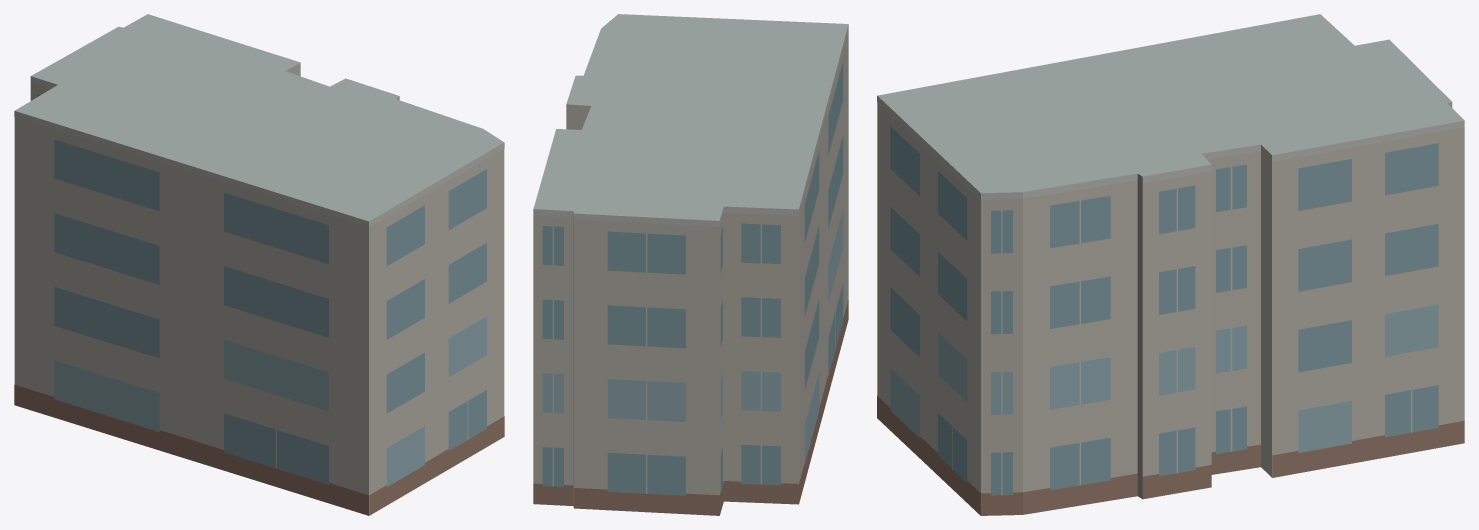
The model's file is survey-upis-32614651.glb.
3 renders of one model, left to right at view 1: azimuth 30°, elevation 25°; view 2: azimuth 150°, elevation 25°; view 3: azimuth 270°, elevation 25°, orthographic. The views are drawn at different scales.
Parts seen in each view (by area): view 1: survey-upis-32614651.tmp; view 2: survey-upis-32614651.tmp; view 3: survey-upis-32614651.tmp.
Part boxes in pixels (x1,y1,x2,y2): survey-upis-32614651.tmp: (14, 14, 504, 515); survey-upis-32614651.tmp: (533, 14, 848, 515); survey-upis-32614651.tmp: (877, 14, 1464, 515).
Size of the model in its own units: 13.95 by 11.7 by 19.31.
